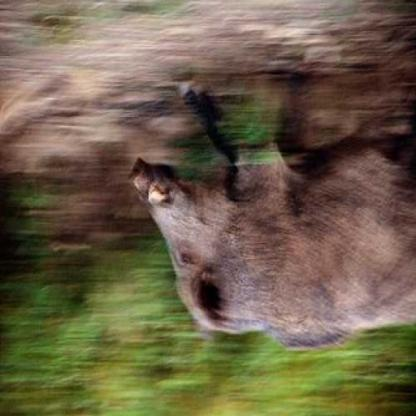boar: (136, 64, 415, 373)
